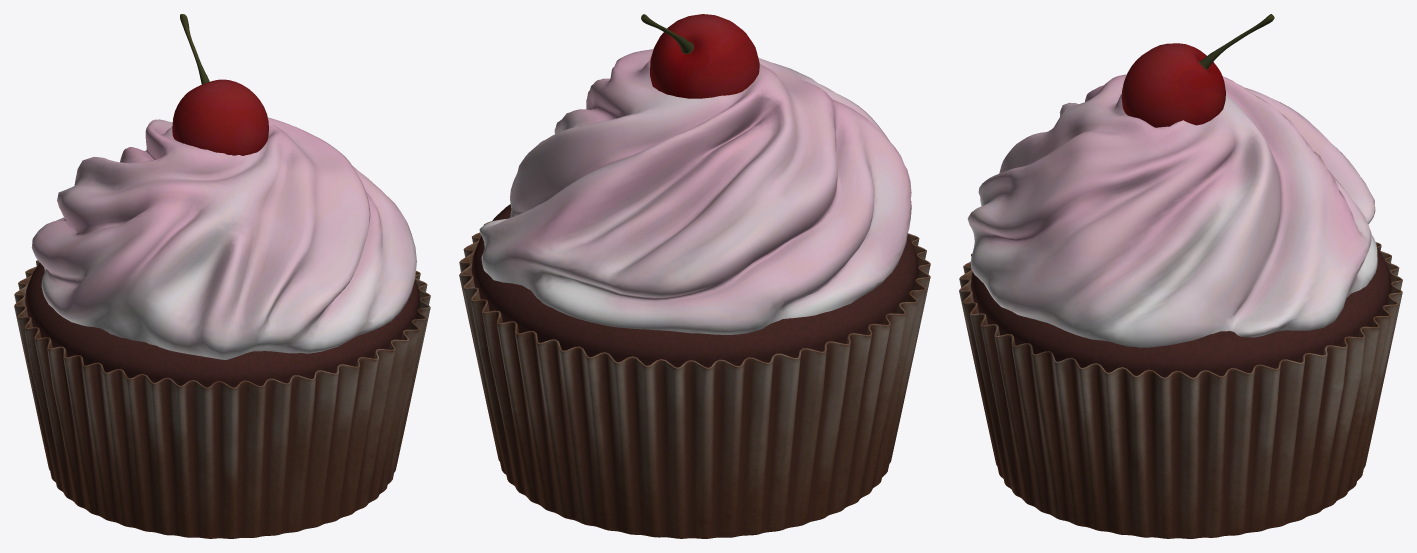
Rendered from uploads_files_1985193_cupcake.fbx.
3 views of the same model, side by side, from view 1: azimuth 30°, elevation 25°; view 2: azimuth 150°, elevation 25°; view 3: azimuth 270°, elevation 25° (orthographic). The views are drawn at different scales.
Parts seen in each view (by area): view 1: node_id30; view 2: node_id30; view 3: node_id30.
Part boxes in pixels (x1,y1,x2,y2): node_id30: (14,14,430,538); node_id30: (459,14,930,538); node_id30: (959,14,1402,538).
Size of the model in its own units: 0.459 by 0.512 by 0.459.
Materials: 1 (1 with a texture image).
